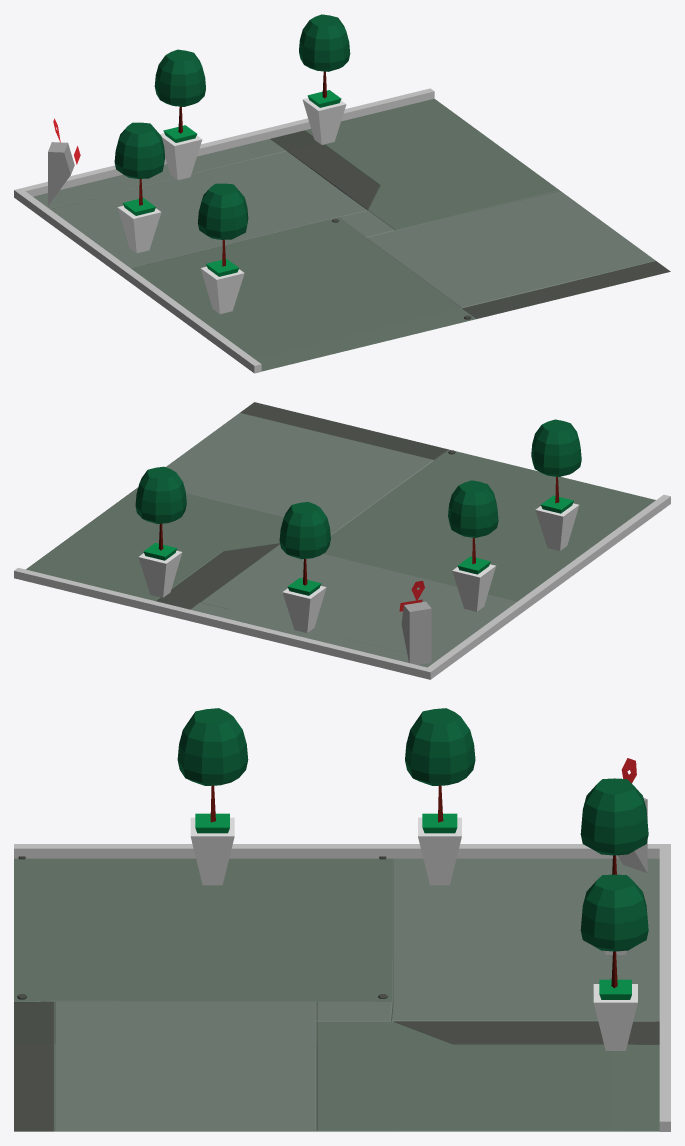
The picture shows the model from 3 angles, top to bottom: view 1: azimuth 30°, elevation 25°; view 2: azimuth 150°, elevation 25°; view 3: azimuth 270°, elevation 25°; orthographic projection. The views are drawn at different scales.
Visible parts, largest first — view 1: Scifi_Panel_04_Plaza014_group4.027, Cube.1036_Cube.1160, base_singlePot03.018_base_singlePot03.014, base_singlePot03.020, base_singlePot03.019_base_singlePot03.015, base_singlePot03.021, panel.009_panel.012; view 2: Scifi_Panel_04_Plaza014_group4.027, Cube.1036_Cube.1160, base_singlePot03.019_base_singlePot03.015, base_singlePot03.018_base_singlePot03.014, base_singlePot03.021, base_singlePot03.020, panel.009_panel.012; view 3: Scifi_Panel_04_Plaza014_group4.027, Cube.1036_Cube.1160, base_singlePot03.020, base_singlePot03.021, base_singlePot03.018_base_singlePot03.014, base_singlePot03.019_base_singlePot03.015, panel.009_panel.012.
Boxes of the visible parts, x1,y1,x2,y2 form: Scifi_Panel_04_Plaza014_group4.027: (33, 99, 670, 371); Cube.1036_Cube.1160: (14, 88, 434, 373); base_singlePot03.018_base_singlePot03.014: (299, 14, 350, 144); base_singlePot03.020: (197, 183, 248, 314); base_singlePot03.019_base_singlePot03.015: (154, 49, 205, 180); base_singlePot03.021: (114, 122, 164, 253); panel.009_panel.012: (48, 118, 80, 205); Scifi_Panel_04_Plaza014_group4.027: (26, 402, 655, 667); Cube.1036_Cube.1160: (14, 494, 670, 679); base_singlePot03.019_base_singlePot03.015: (279, 502, 330, 632); base_singlePot03.018_base_singlePot03.014: (135, 466, 186, 597); base_singlePot03.021: (448, 480, 498, 611); base_singlePot03.020: (531, 419, 581, 550); panel.009_panel.012: (399, 580, 431, 664); Scifi_Panel_04_Plaza014_group4.027: (14, 856, 659, 1131); Cube.1036_Cube.1160: (14, 844, 670, 1131); base_singlePot03.020: (177, 708, 248, 885); base_singlePot03.021: (405, 708, 475, 885); base_singlePot03.018_base_singlePot03.014: (580, 874, 648, 1050); base_singlePot03.019_base_singlePot03.015: (580, 778, 648, 954); panel.009_panel.012: (617, 758, 647, 873).
Size of the model in its own units: 10 by 2.78 by 10.
